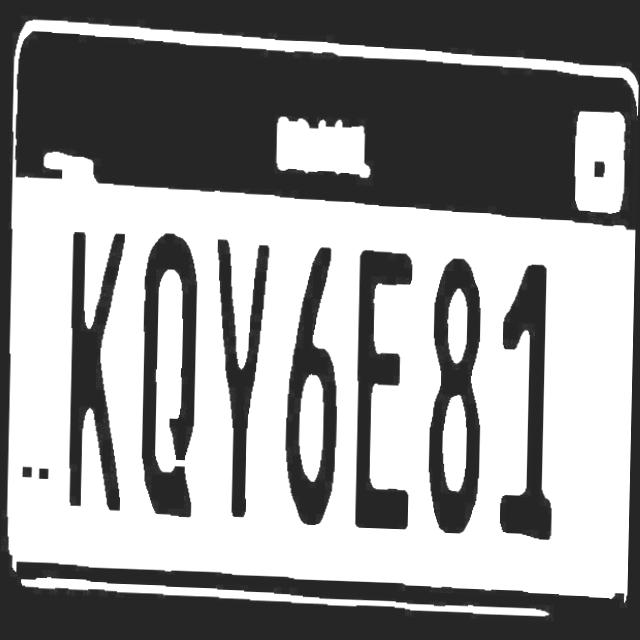1: (494, 256, 565, 545)
6: (278, 239, 350, 529)
8: (423, 253, 491, 542)
e: (351, 244, 422, 539)
k: (64, 224, 134, 517)
q: (135, 228, 207, 522)
y: (209, 230, 275, 522)
